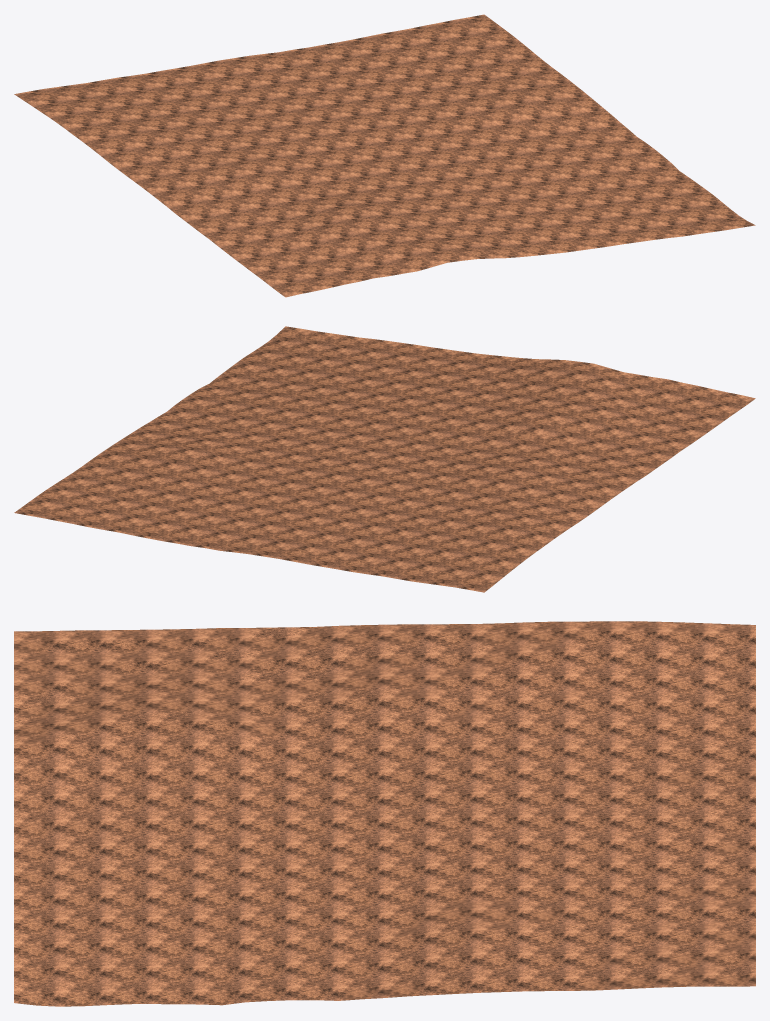
The model's file is terrain_10_13.dae.
3 renders of one model, top to bottom at view 1: azimuth 30°, elevation 25°; view 2: azimuth 150°, elevation 25°; view 3: azimuth 270°, elevation 25°, orthographic. The views are drawn at different scales.
Visible parts, largest first — view 1: terrain_10_13-node; view 2: terrain_10_13-node; view 3: terrain_10_13-node.
Boxes of the visible parts, x1,y1,x2,y2 form: terrain_10_13-node: (14,14,755,297); terrain_10_13-node: (14,326,755,592); terrain_10_13-node: (14,621,755,1006).
Bounding box in the file's own units: 128 × 128 × 13.68.
1 material, 1 textured.
